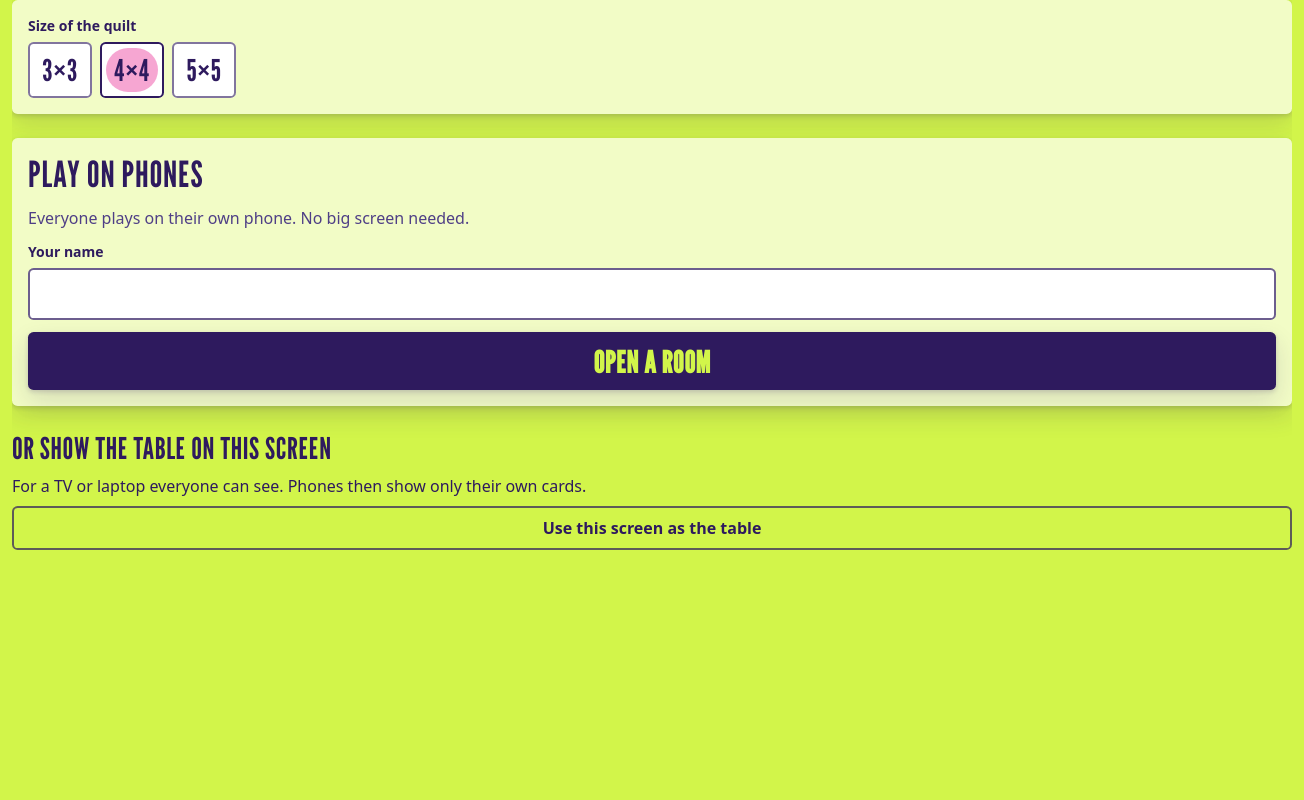
Test: opening a room › says the server is out of reach when it is
Click the button "Use this screen as the table" at point(652, 528), box [12,506,1292,550]
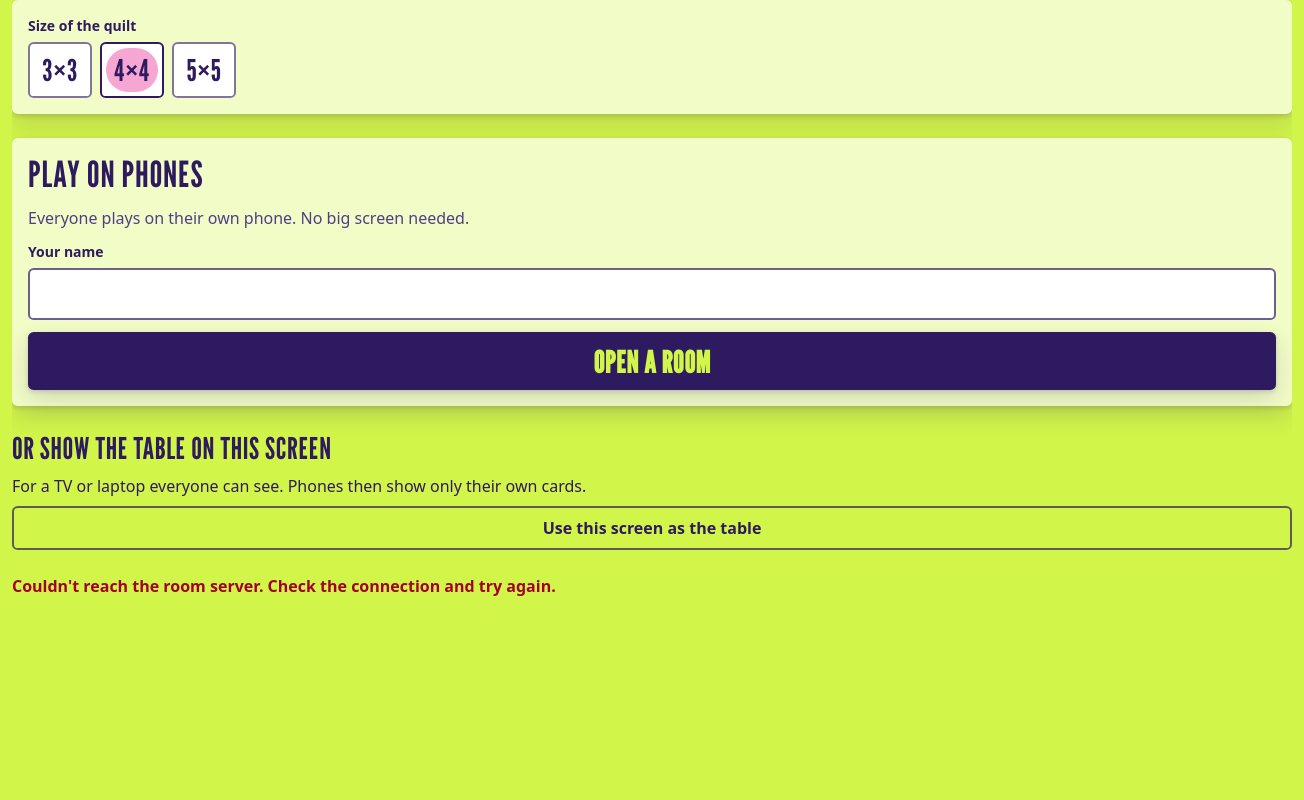
Result: the message shows "Couldn't reach the room server." at [12,575,556,597]
